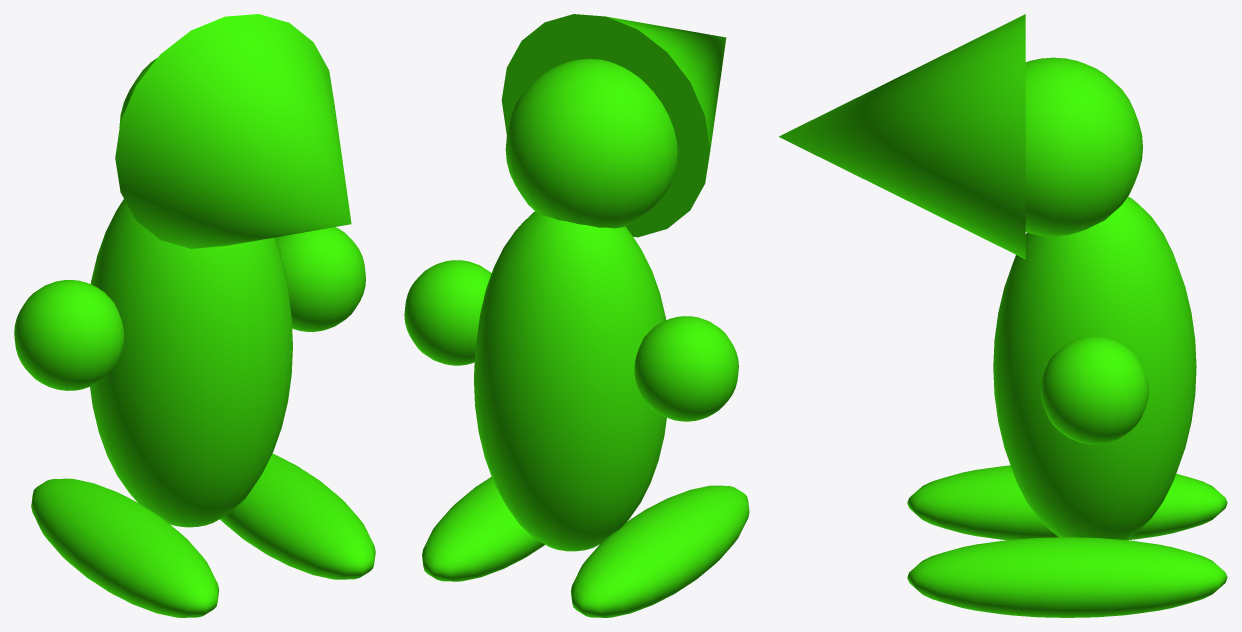
File: Player.fbx
3 views of the same model, side by side, from view 1: azimuth 30°, elevation 25°; view 2: azimuth 150°, elevation 25°; view 3: azimuth 270°, elevation 25° (orthographic). The views are drawn at different scales.
Parts seen in each view (by area): view 1: pSphere7; view 2: pSphere7; view 3: pSphere7.
Part boxes in pixels (x1,y1,x2,y2): pSphere7: [14, 14, 375, 617]; pSphere7: [404, 14, 749, 617]; pSphere7: [779, 14, 1227, 617].
Bounding box in the file's own units: 0.8115 × 1.29 × 0.9578.
